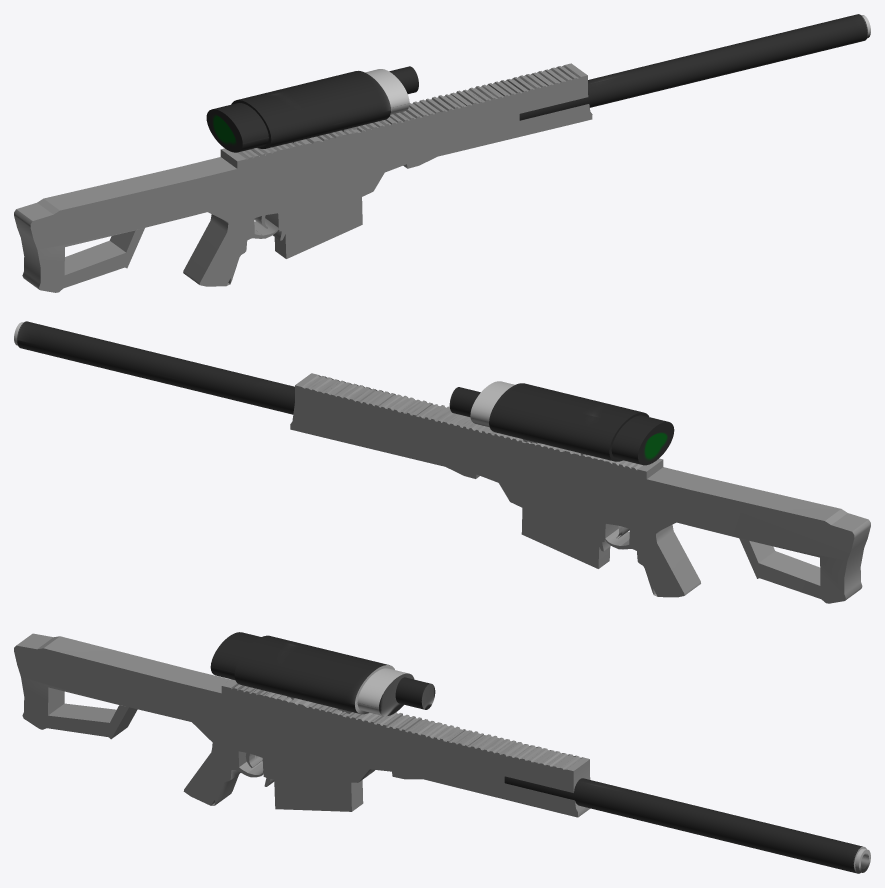
File: weapon3.fbx
3 views of the same model, one above another, from view 1: azimuth 30°, elevation 25°; view 2: azimuth 150°, elevation 25°; view 3: azimuth 330°, elevation 25° (orthographic).
Visible parts, largest first — view 1: Sniper; view 2: Sniper; view 3: Sniper.
Boxes of the visible parts, x1,y1,x2,y2 form: Sniper: (14,14,870,292); Sniper: (14,321,870,603); Sniper: (14,632,870,873).
Size of the model in its own units: 403 by 75.76 by 34.
